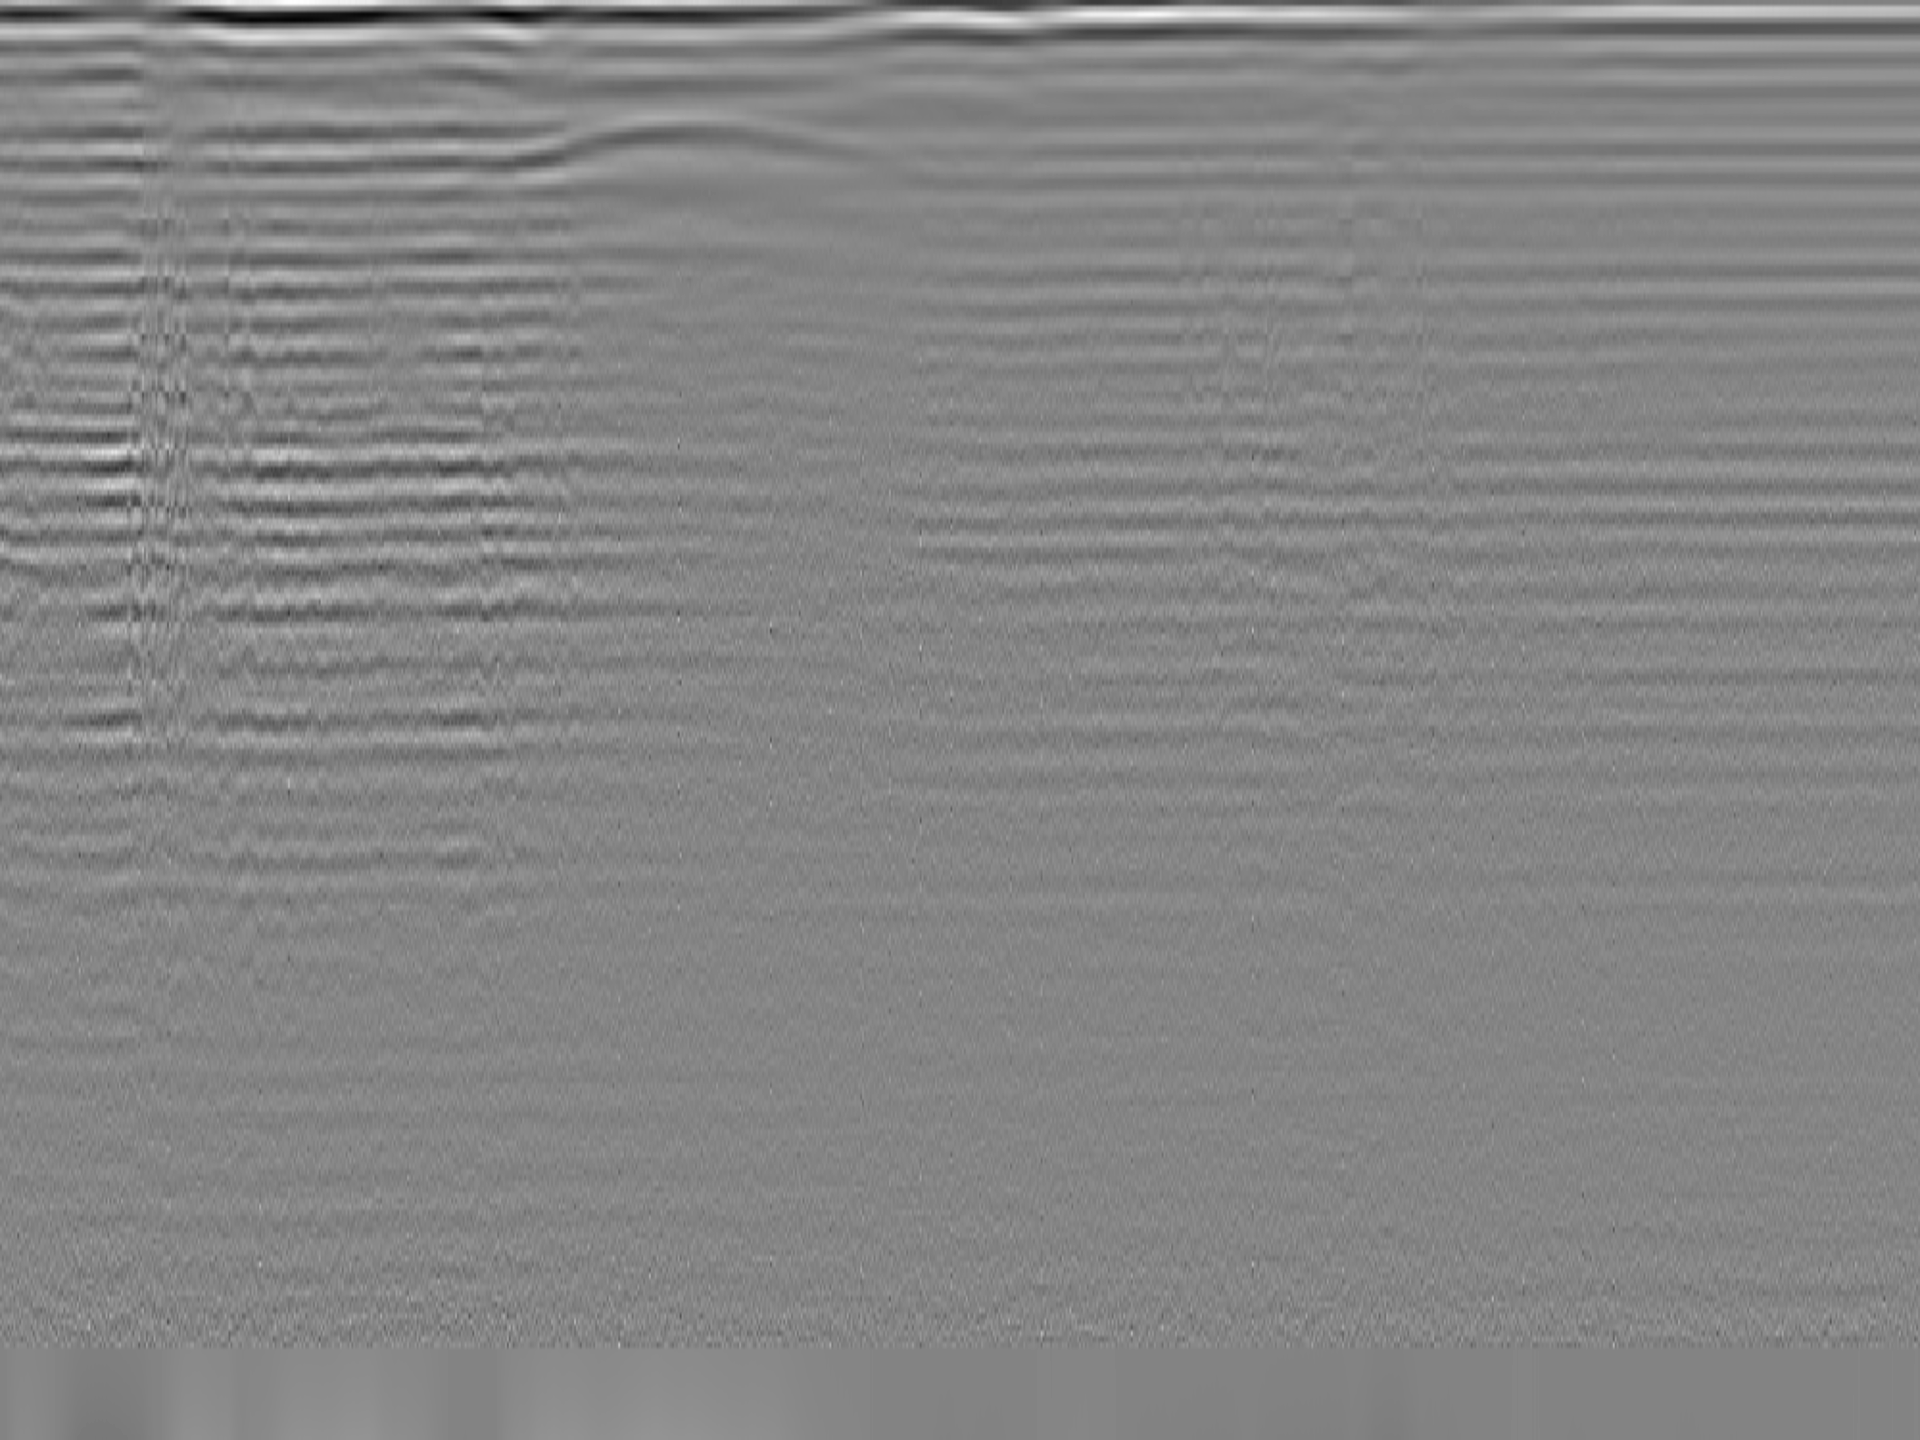Tunnel: (503, 115, 898, 172)
